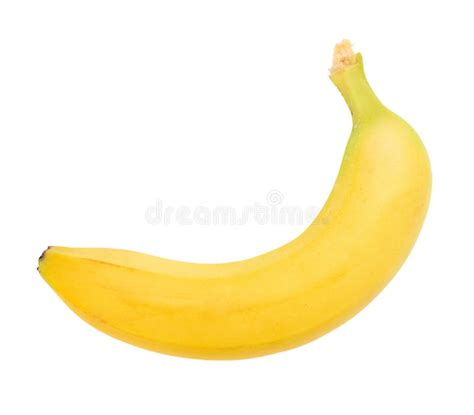???: (37, 51, 433, 361)
